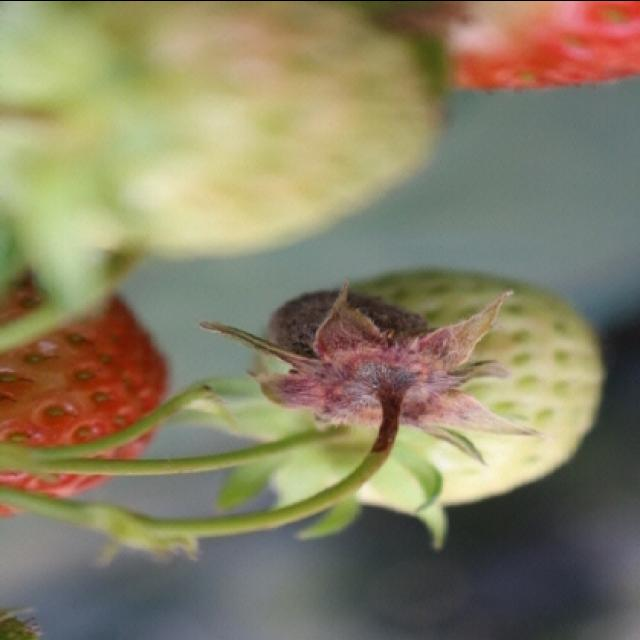Gray Mold: (196, 277, 543, 462)
